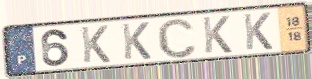6: (39, 28, 72, 68)
C: (155, 16, 199, 60)
K: (79, 24, 113, 65), (120, 21, 154, 61), (201, 14, 234, 55), (242, 11, 275, 52)
